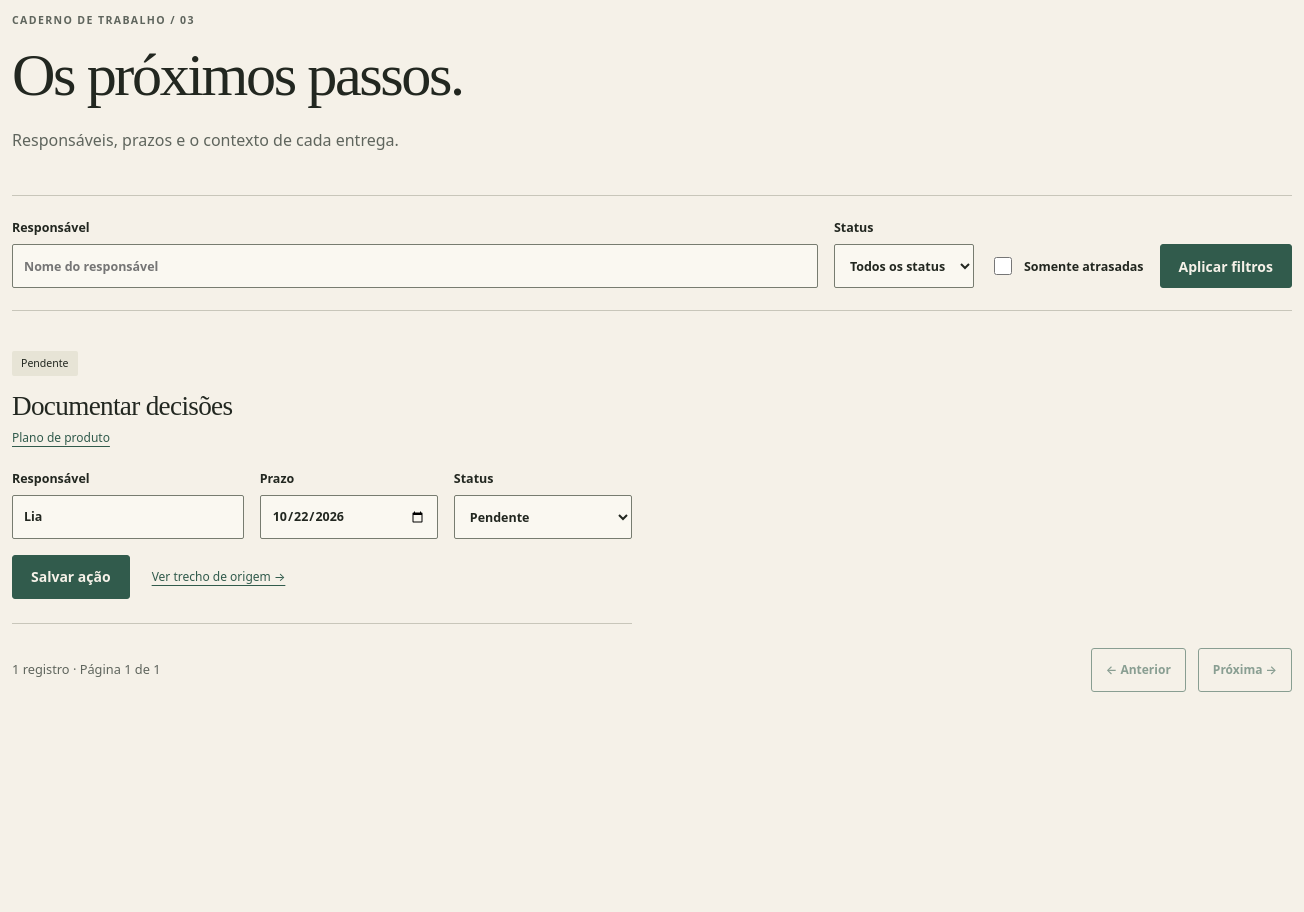
formulários e navegação › reaplica os filtros após salvar e mantém a confirmação focada quando a ação sai da lista
Expected: the heading "Documentar decisões" is shown, x1=12 y1=391 x2=232 y2=421
Select "Pendente" in the dropdown labelled "Status" next to "Somente atrasadas" at coordinates (904, 266), box x1=834 y1=244 x2=974 y2=288
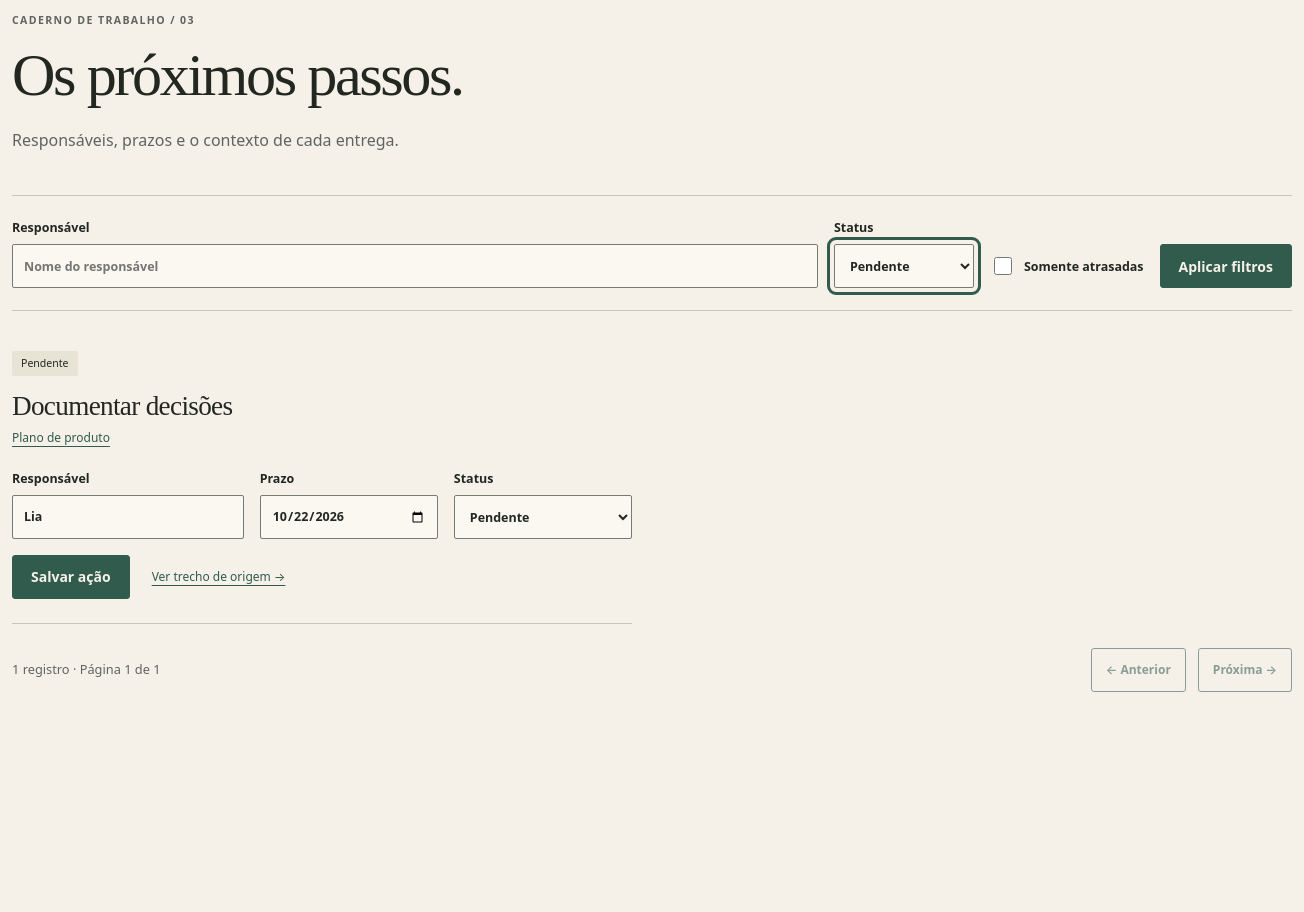
Click the button "Aplicar filtros".
click(1226, 266)  # box x1=1160 y1=244 x2=1292 y2=288
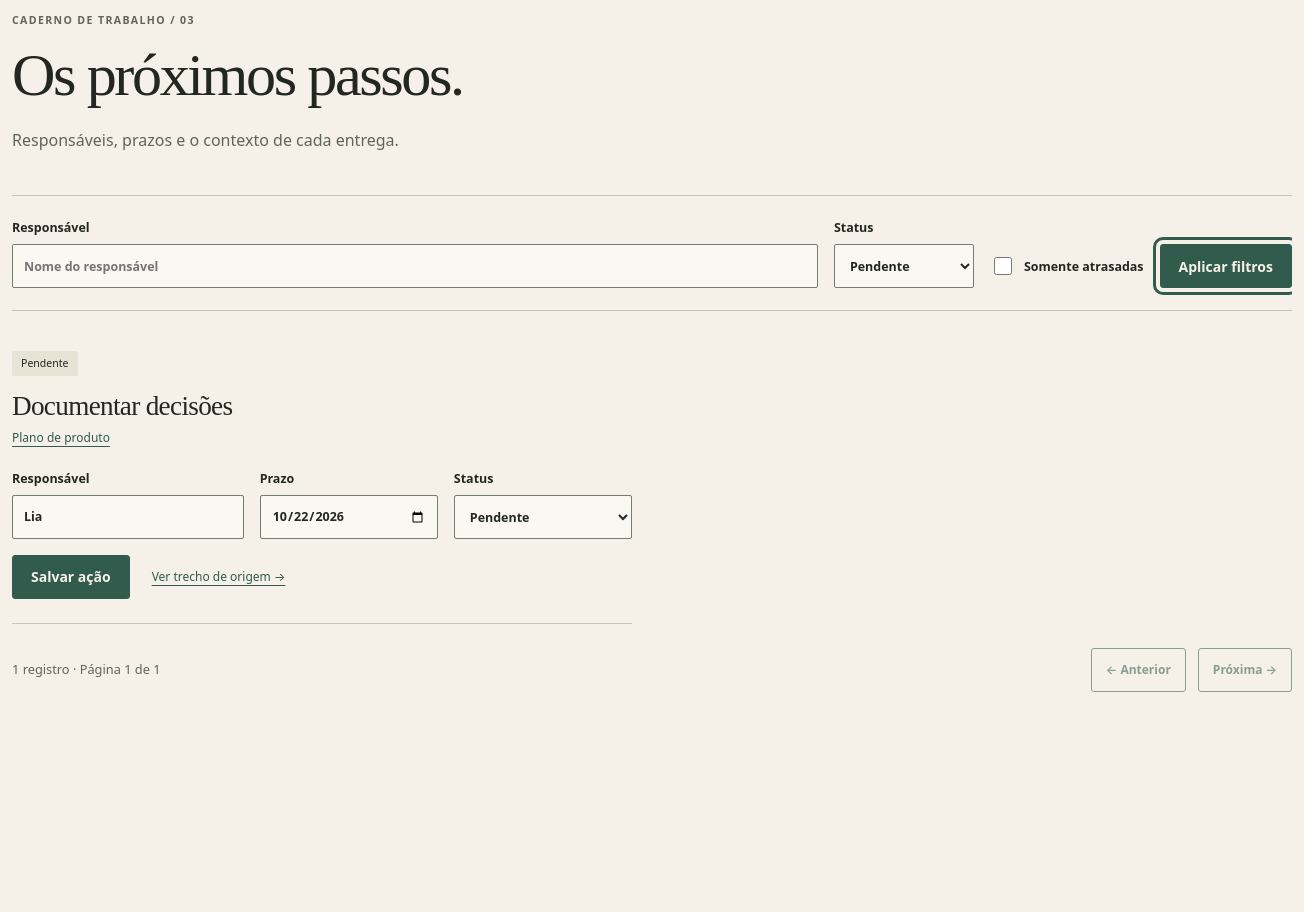
Expected: the heading "Documentar decisões" is shown, x1=12 y1=391 x2=232 y2=421
Select "Concluída" in the dropdown labelled "Status" below "Documentar decisões" at coordinates (543, 517), box x1=454 y1=495 x2=632 y2=539
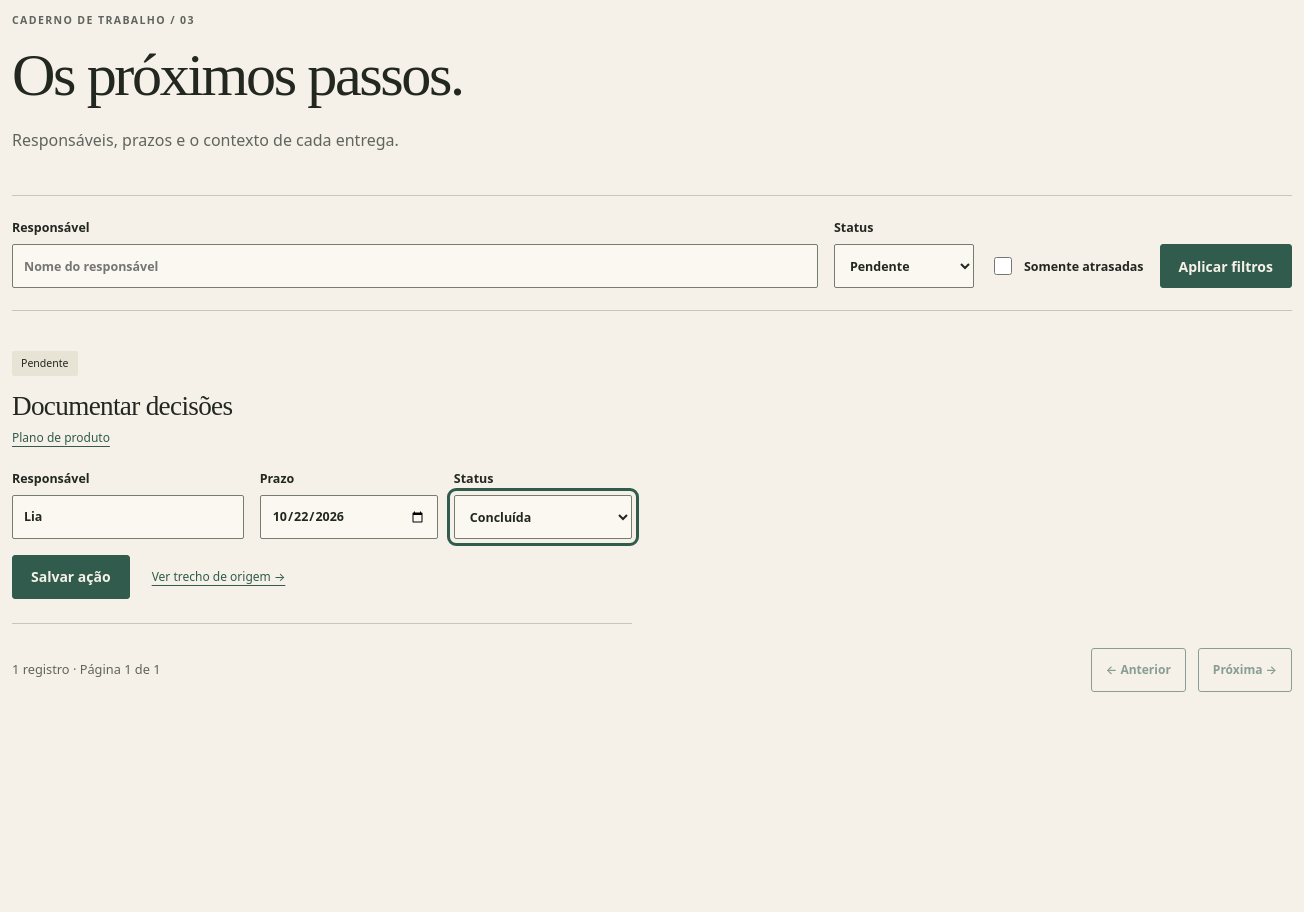
Click the button "Salvar ação".
click(71, 577)  # box x1=12 y1=555 x2=130 y2=599
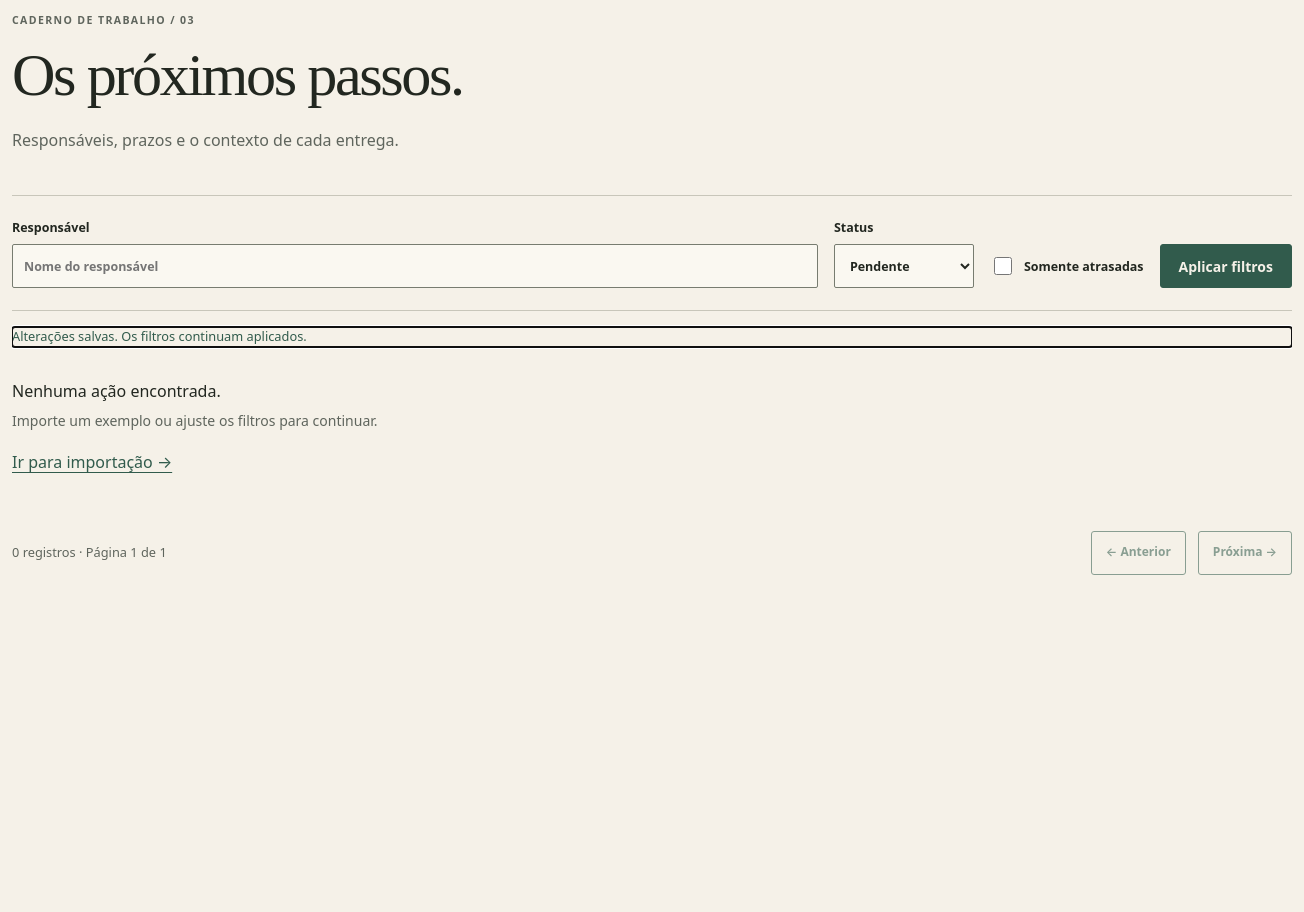
Expected: the text "Nenhuma ação encontrada." is shown, x1=12 y1=380 x2=221 y2=402
Expected: the heading "Documentar decisões" is gone
Expected: the text "0 registros · Página 1 de 1" is shown, x1=12 y1=543 x2=167 y2=562
